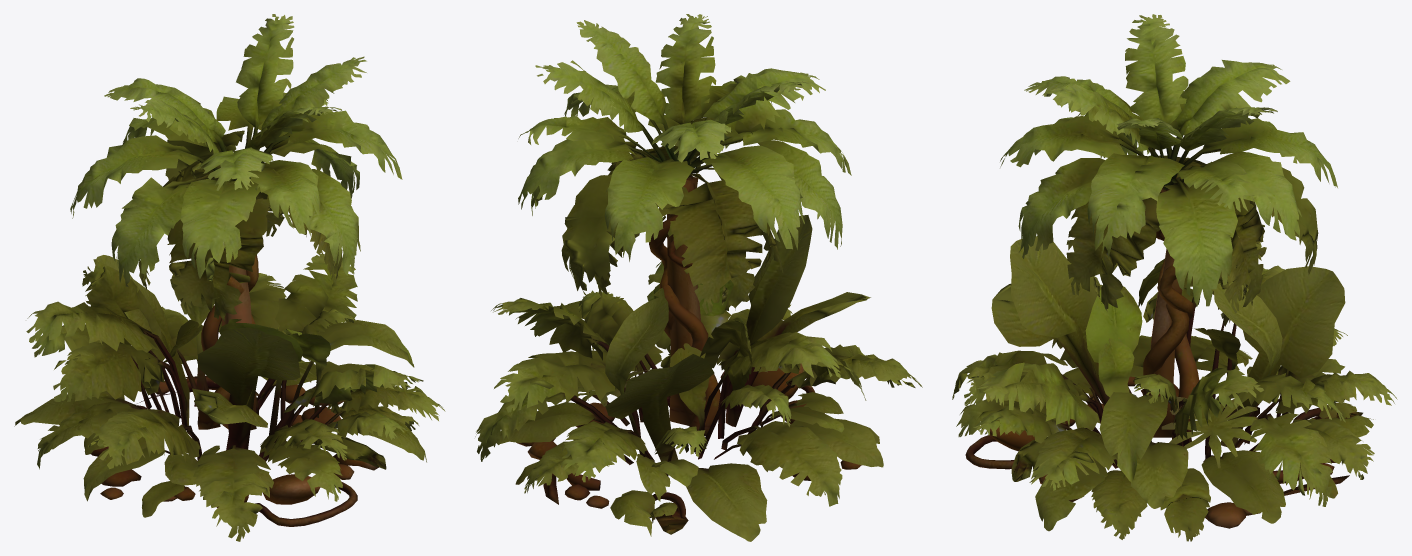
Rendered from jun_fern_cluster_low.glb.
3 renders of one model, left to right at view 1: azimuth 30°, elevation 25°; view 2: azimuth 150°, elevation 25°; view 3: azimuth 270°, elevation 25°, orthographic. The views are drawn at different scales.
Visible parts, largest first — view 1: tripo_node_f26c364c-f640-4782-969d-d89758f2ef56; view 2: tripo_node_f26c364c-f640-4782-969d-d89758f2ef56; view 3: tripo_node_f26c364c-f640-4782-969d-d89758f2ef56.
Part boxes in pixels (x1,y1,x2,y2): tripo_node_f26c364c-f640-4782-969d-d89758f2ef56: (14,14,445,541); tripo_node_f26c364c-f640-4782-969d-d89758f2ef56: (475,14,922,541); tripo_node_f26c364c-f640-4782-969d-d89758f2ef56: (952,14,1397,541).
Bounding box in the file's own units: 0.9473 × 0.9941 × 0.998.
Materials: 1 (1 with a texture image).
